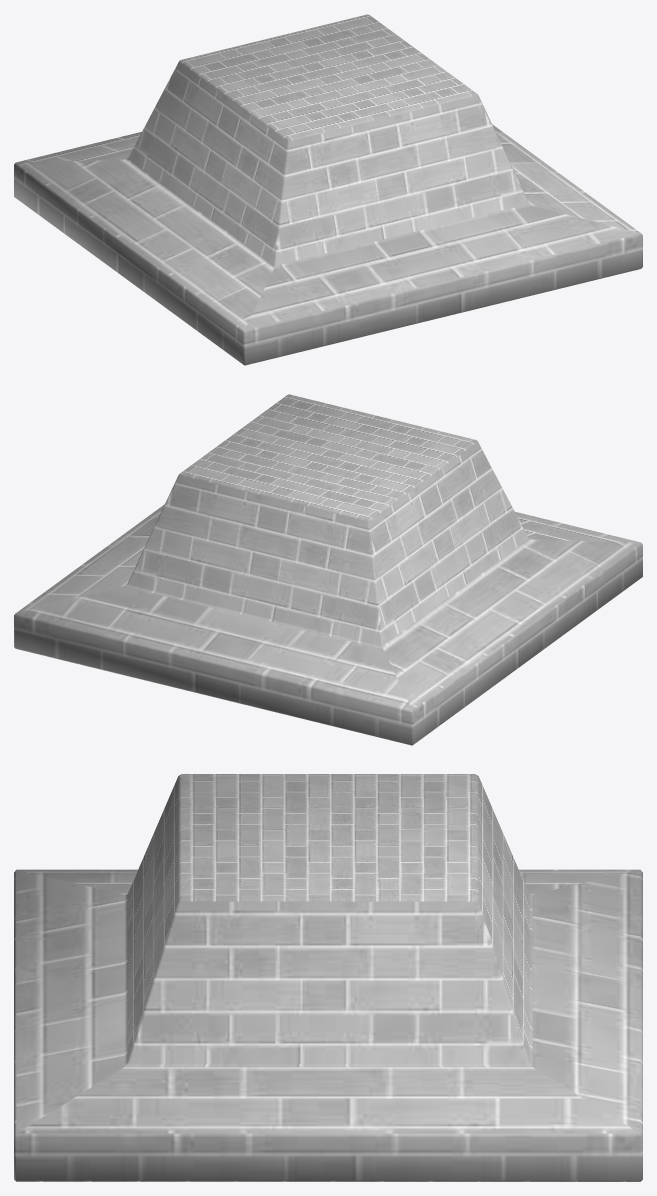
The model's file is dodai.fbx.
The picture shows the model from 3 angles, top to bottom: view 1: azimuth 30°, elevation 25°; view 2: azimuth 150°, elevation 25°; view 3: azimuth 270°, elevation 25°; orthographic projection. The views are drawn at different scales.
Visible parts, largest first — view 1: 平面.010; view 2: 平面.010; view 3: 平面.010.
Boxes of the visible parts, x1=… form: 平面.010: x1=14, y1=14, x2=642, y2=365; 平面.010: x1=14, y1=394, x2=642, y2=745; 平面.010: x1=14, y1=774, x2=642, y2=1181.
Bounding box in the file's own units: 2571 × 964 × 2571.
1 material, 1 textured.
